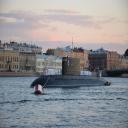submarine: (32, 56, 114, 87)
